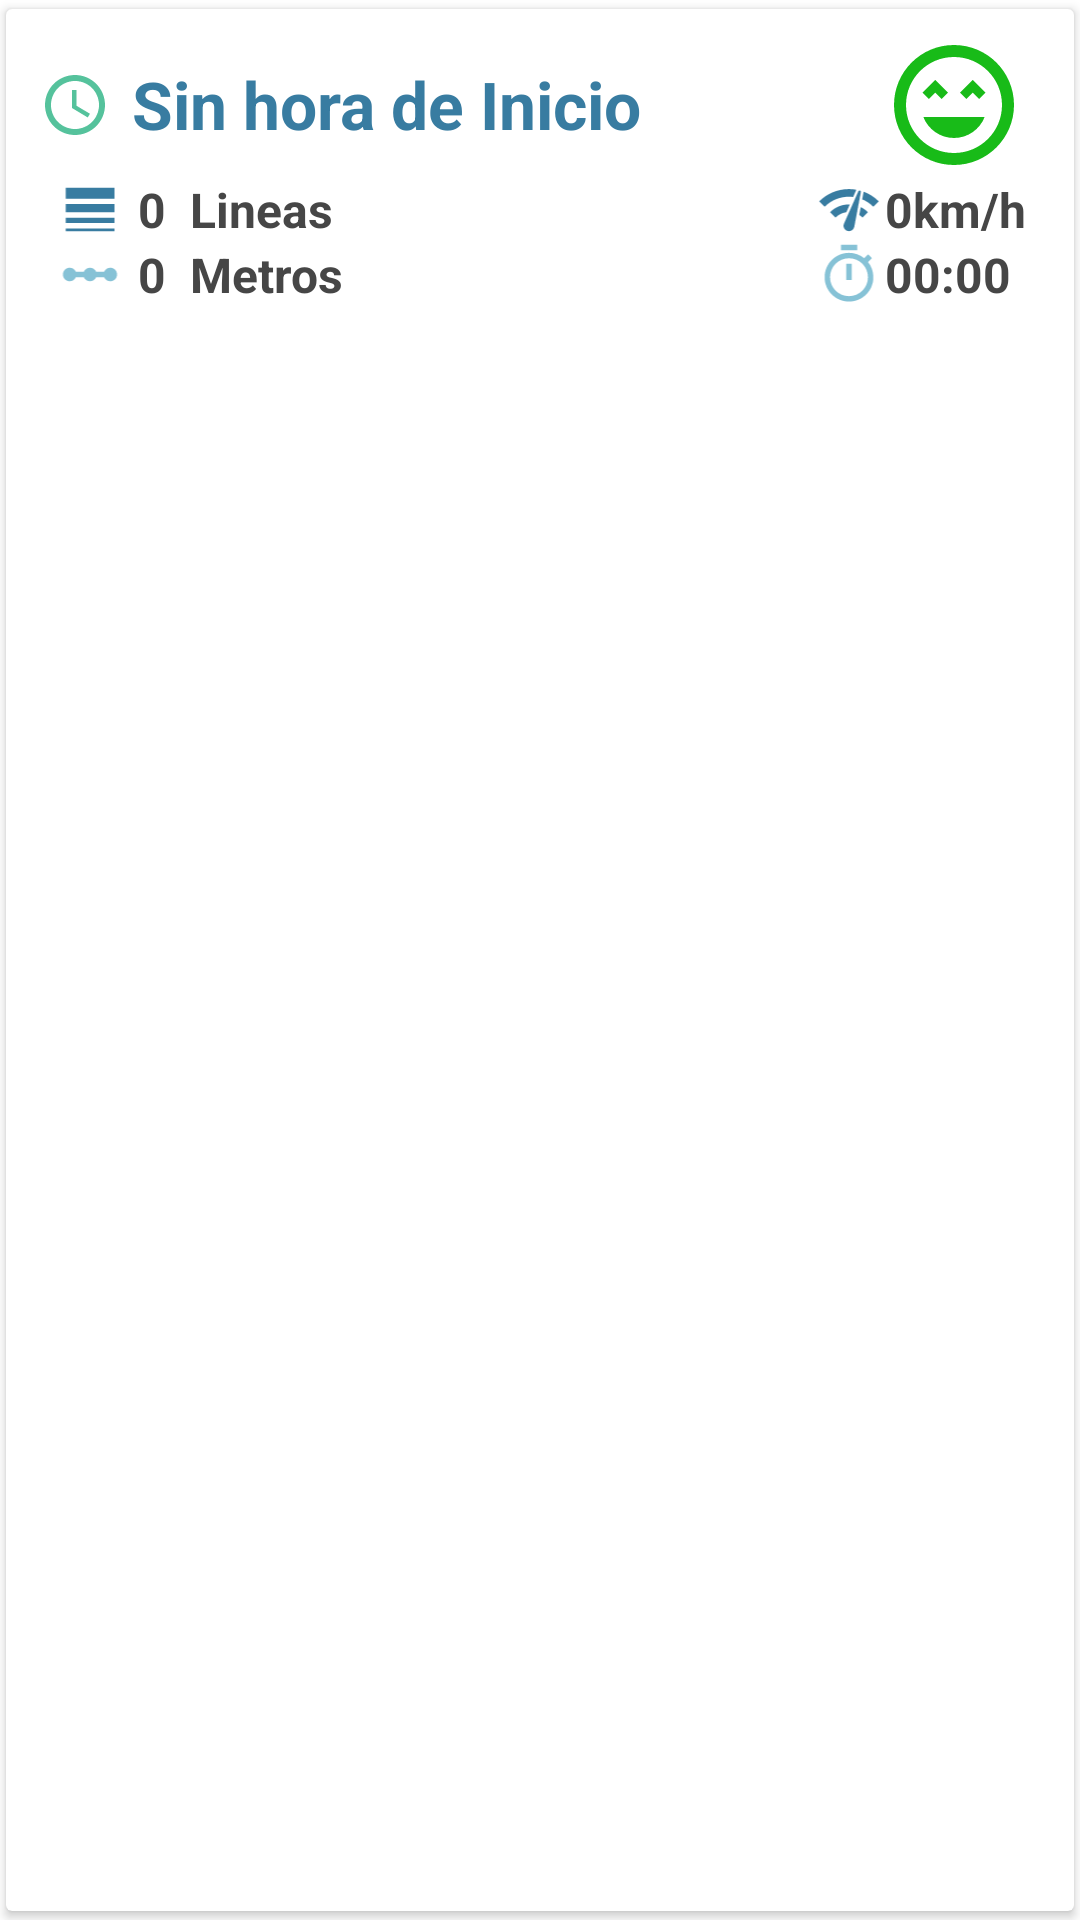

Where to tap for icons on this 1080 × 1920 app screen, as [x,y]:
happy: [954,105]
line weight: [90,209]
linear scale: [90,274]
network check: [849,210]
time: [75,105]
timer: [849,273]
